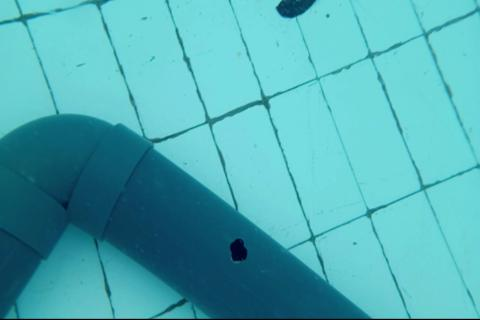kebocoran: (227, 236, 249, 265)
